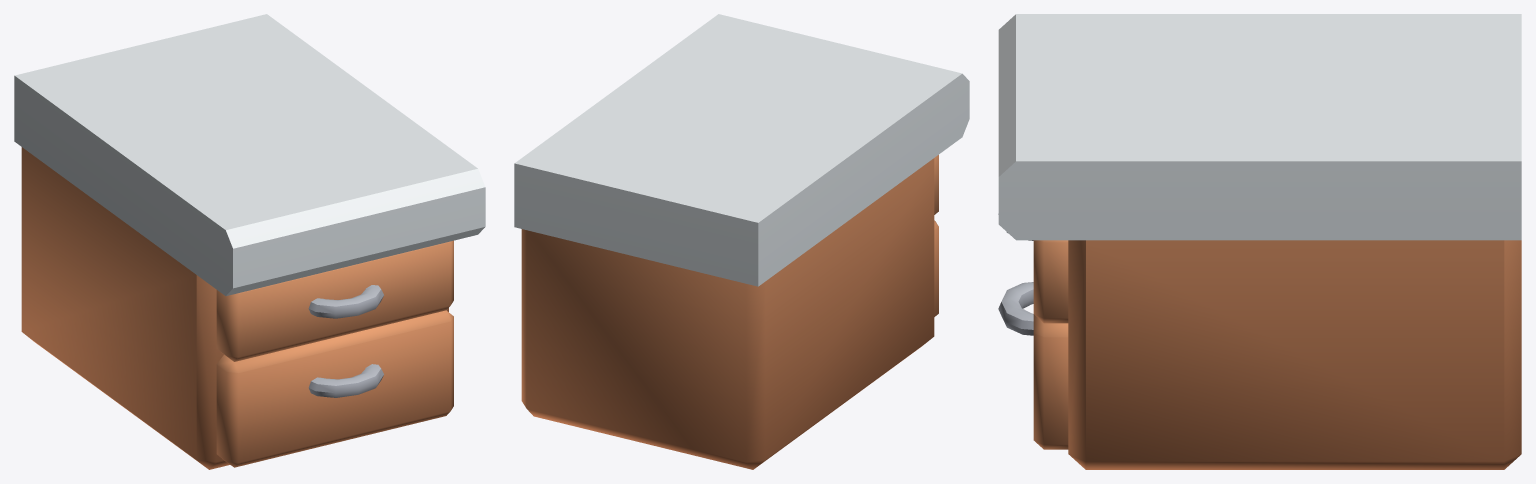
Rendered from Countertop Single.glb.
The picture shows the model from 3 angles, left to right: view 1: azimuth 30°, elevation 25°; view 2: azimuth 150°, elevation 25°; view 3: azimuth 270°, elevation 25°; orthographic projection. The views are drawn at different scales.
Visible parts, largest first — view 1: countertop_single; view 2: countertop_single; view 3: countertop_single.
Boxes of the visible parts, left/top/right/bottom form: countertop_single: left=14, top=14, right=485, bottom=469; countertop_single: left=514, top=14, right=969, bottom=469; countertop_single: left=998, top=14, right=1521, bottom=469.
Bounding box in the file's own units: 1 × 1 × 1.5.
Materials: 1 (1 with a texture image).
